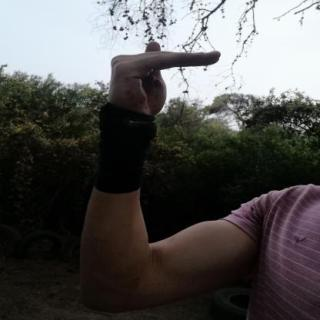KHAA: (96, 33, 229, 129)
